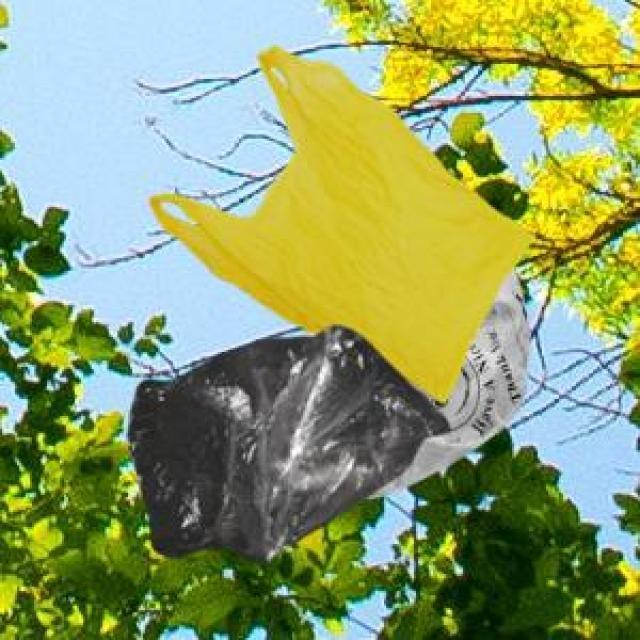Bolsa-de-nilon: (140, 43, 542, 403), (110, 278, 547, 568)
